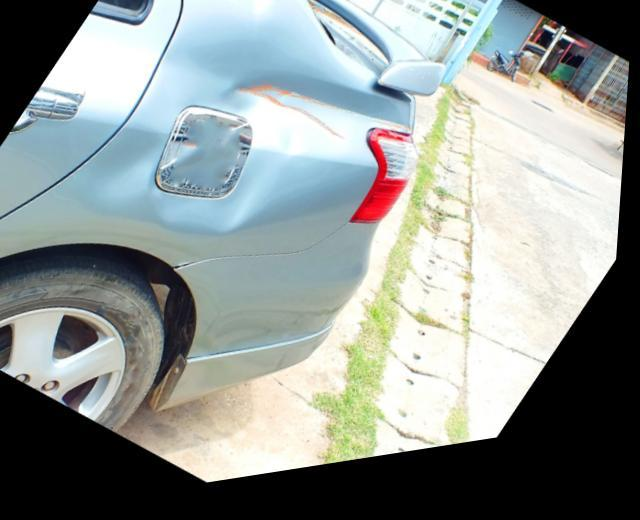dent: (77, 27, 311, 239)
scratch: (306, 106, 416, 157)
